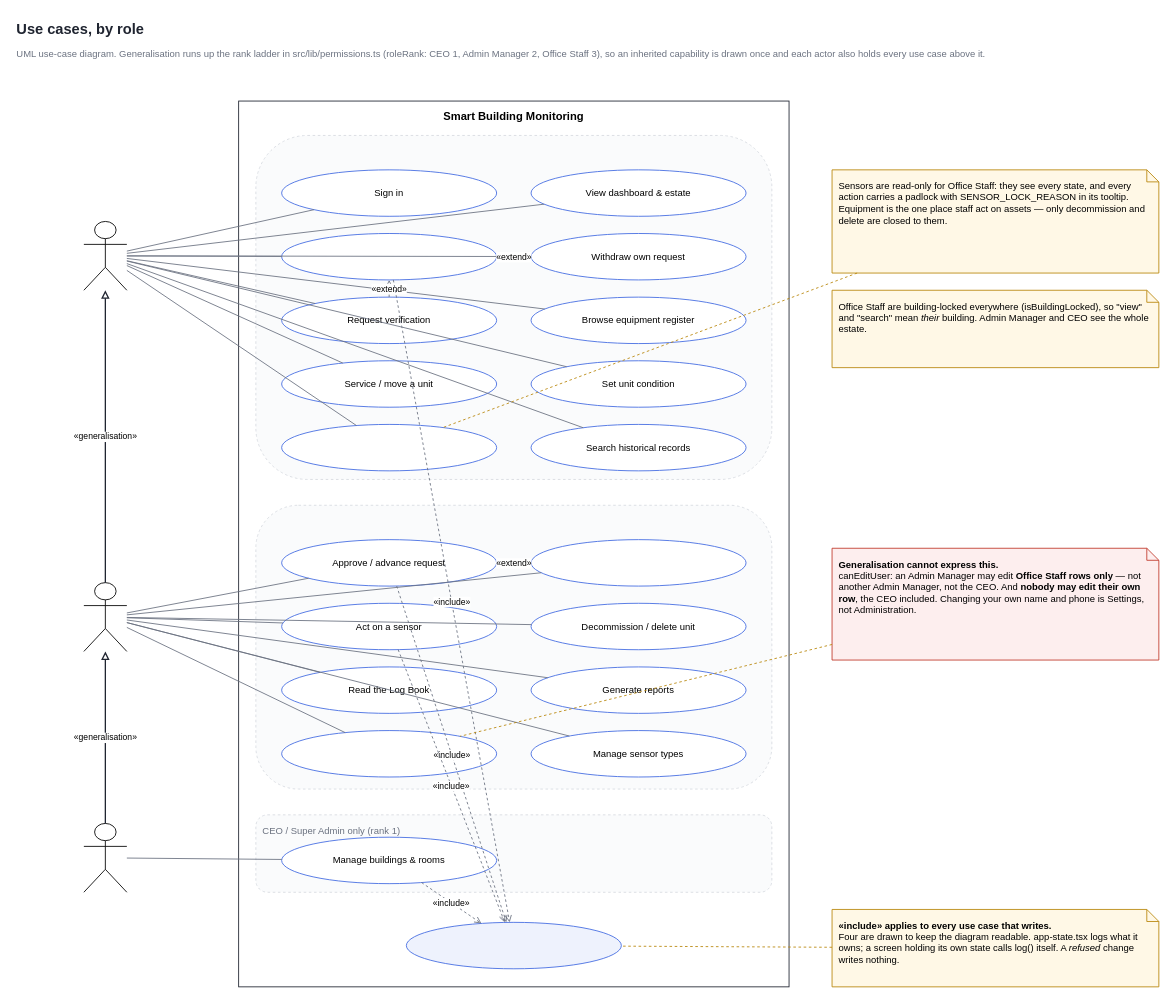
The diagram is 1174 pixels wide and 1002 high, and some of its shapes have lost their labels. Each missing label, with the box of its shape:
Admin Manager: (83, 582, 127, 651)
Admin Manager and above (rank ≤ 2): (255, 504, 772, 789)
available to every role (rank 3): (255, 135, 772, 479)
CEO / Super Admin: (83, 823, 127, 892)
Decline request: (530, 539, 746, 586)
Manage user accounts: (281, 730, 497, 777)
Office Staff: (83, 221, 127, 290)
Raise maintenance request: (281, 233, 497, 280)
View sensors (read-only): (281, 424, 497, 471)
Write a Log Book entry: (405, 921, 621, 969)
